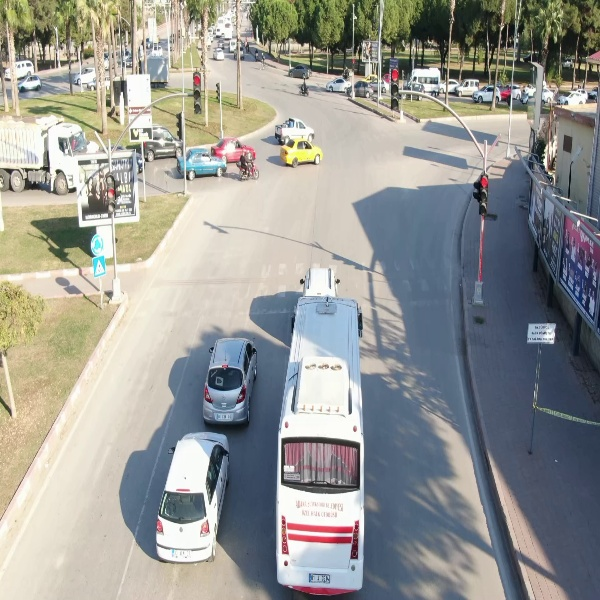car: (155, 425, 233, 565), (202, 335, 262, 427), (176, 144, 229, 181), (278, 135, 325, 170), (474, 84, 503, 106), (16, 73, 46, 94), (556, 89, 589, 107), (284, 61, 314, 80)
